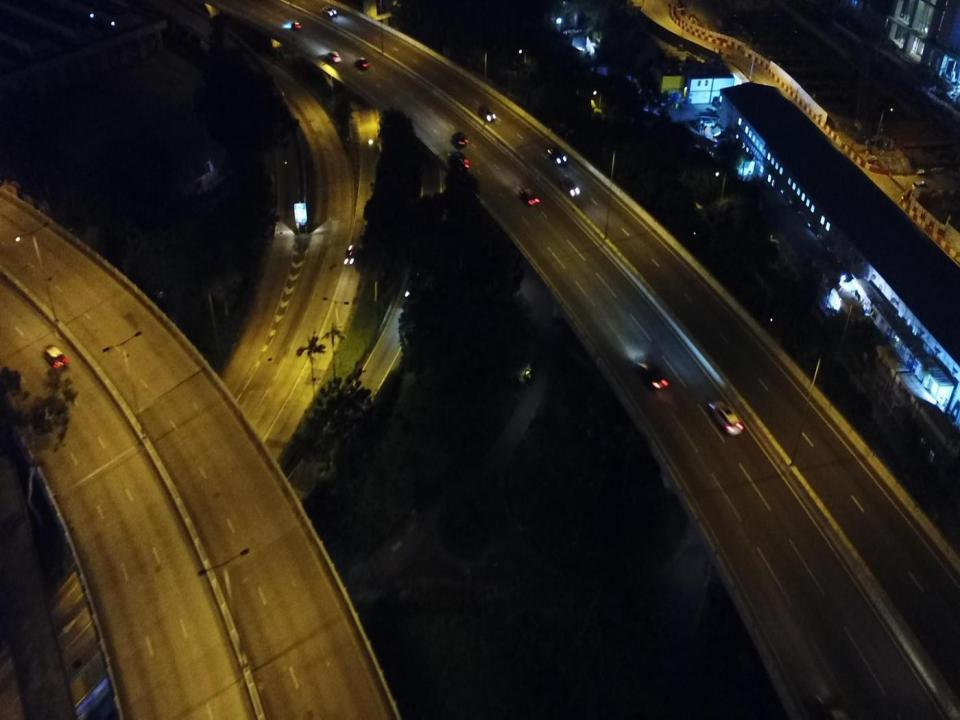car: (710, 399, 742, 434), (638, 363, 666, 390), (45, 346, 67, 370), (547, 146, 567, 166), (561, 175, 579, 195), (521, 187, 539, 205), (345, 241, 358, 265), (452, 132, 468, 148), (322, 6, 338, 18), (699, 118, 716, 129), (355, 58, 370, 70), (328, 51, 341, 62), (290, 21, 302, 30)
van: (450, 151, 468, 170), (479, 106, 495, 122)
